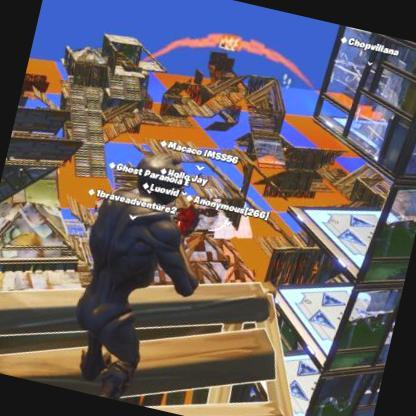person: (196, 170, 203, 180)
